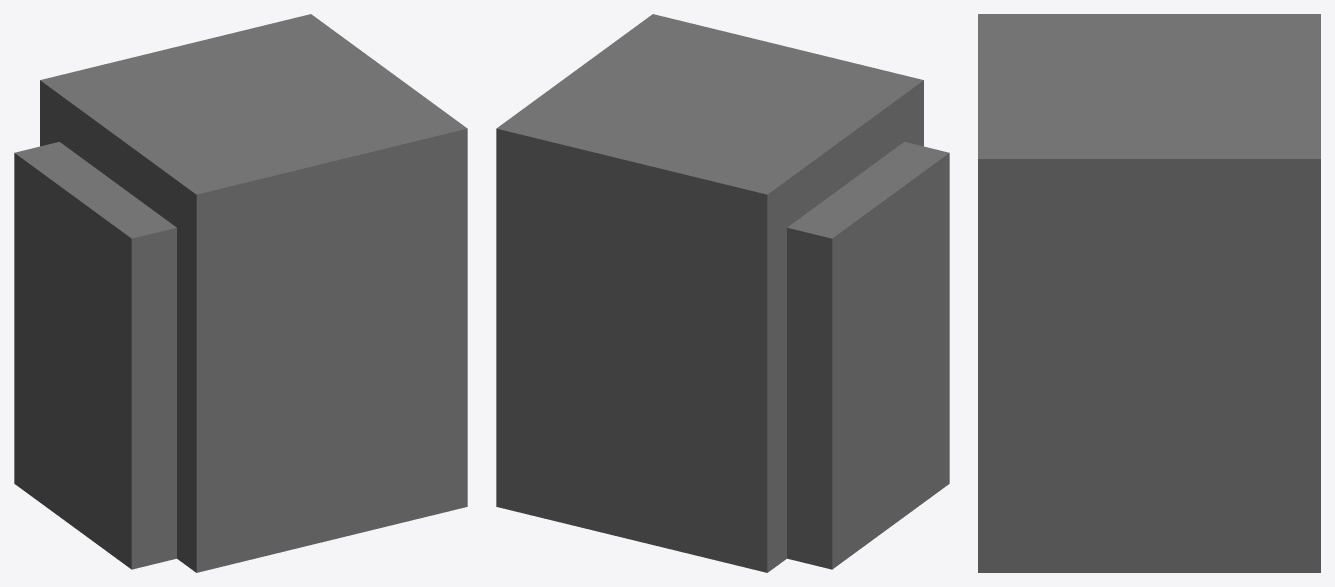
File: Mushburg_wall_6.glb
3 renders of one model, left to right at view 1: azimuth 30°, elevation 25°; view 2: azimuth 150°, elevation 25°; view 3: azimuth 270°, elevation 25°, orthographic. The views are drawn at different scales.
Visible parts, largest first — view 1: wall_6; view 2: wall_6; view 3: wall_6.
Boxes of the visible parts, box(x1,y1,x2,y2) form: wall_6: box(14, 14, 467, 572); wall_6: box(496, 14, 949, 572); wall_6: box(978, 14, 1320, 572).
Size of the model in its own units: 0.875 by 1 by 0.75.
1 material, 1 textured.
